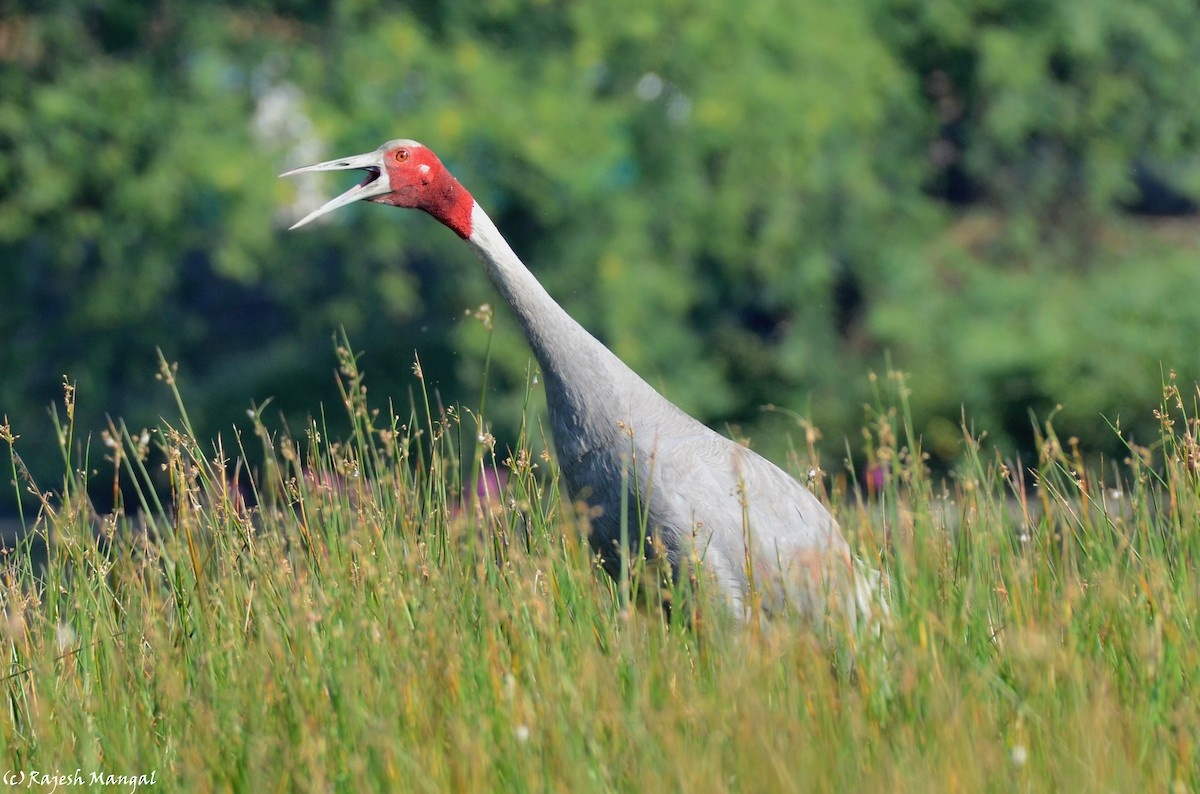crane: (274, 116, 850, 582)
